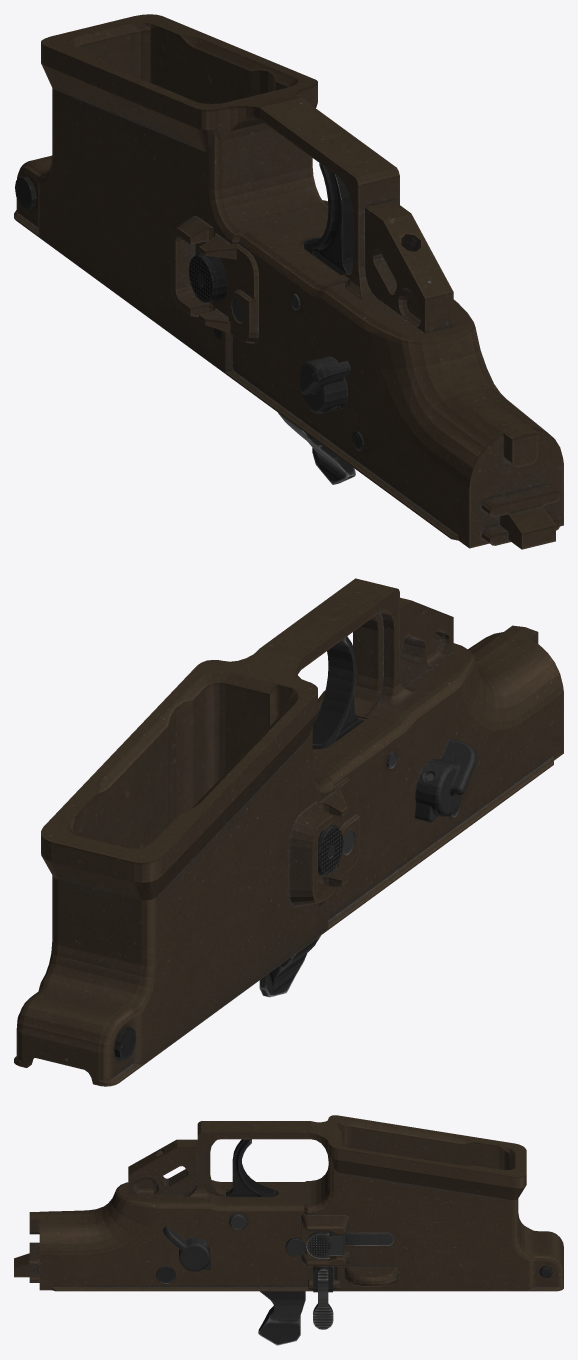
3 renders of one model, top to bottom at view 1: azimuth 30°, elevation 25°; view 2: azimuth 150°, elevation 25°; view 3: azimuth 270°, elevation 25°, orthographic. The views are drawn at different scales.
Visible parts, largest first — view 1: TW_6165ac306ef05c2ce828ef74_PZ_Import; view 2: TW_6165ac306ef05c2ce828ef74_PZ_Import; view 3: TW_6165ac306ef05c2ce828ef74_PZ_Import.
Boxes of the visible parts, x1,y1,x2,y2 form: TW_6165ac306ef05c2ce828ef74_PZ_Import: (14, 14, 563, 549); TW_6165ac306ef05c2ce828ef74_PZ_Import: (14, 578, 563, 1086); TW_6165ac306ef05c2ce828ef74_PZ_Import: (14, 1115, 563, 1345).
Bounding box in the file's own units: 0.0295 × 0.1468 × 0.062.
1 material, 1 textured.
